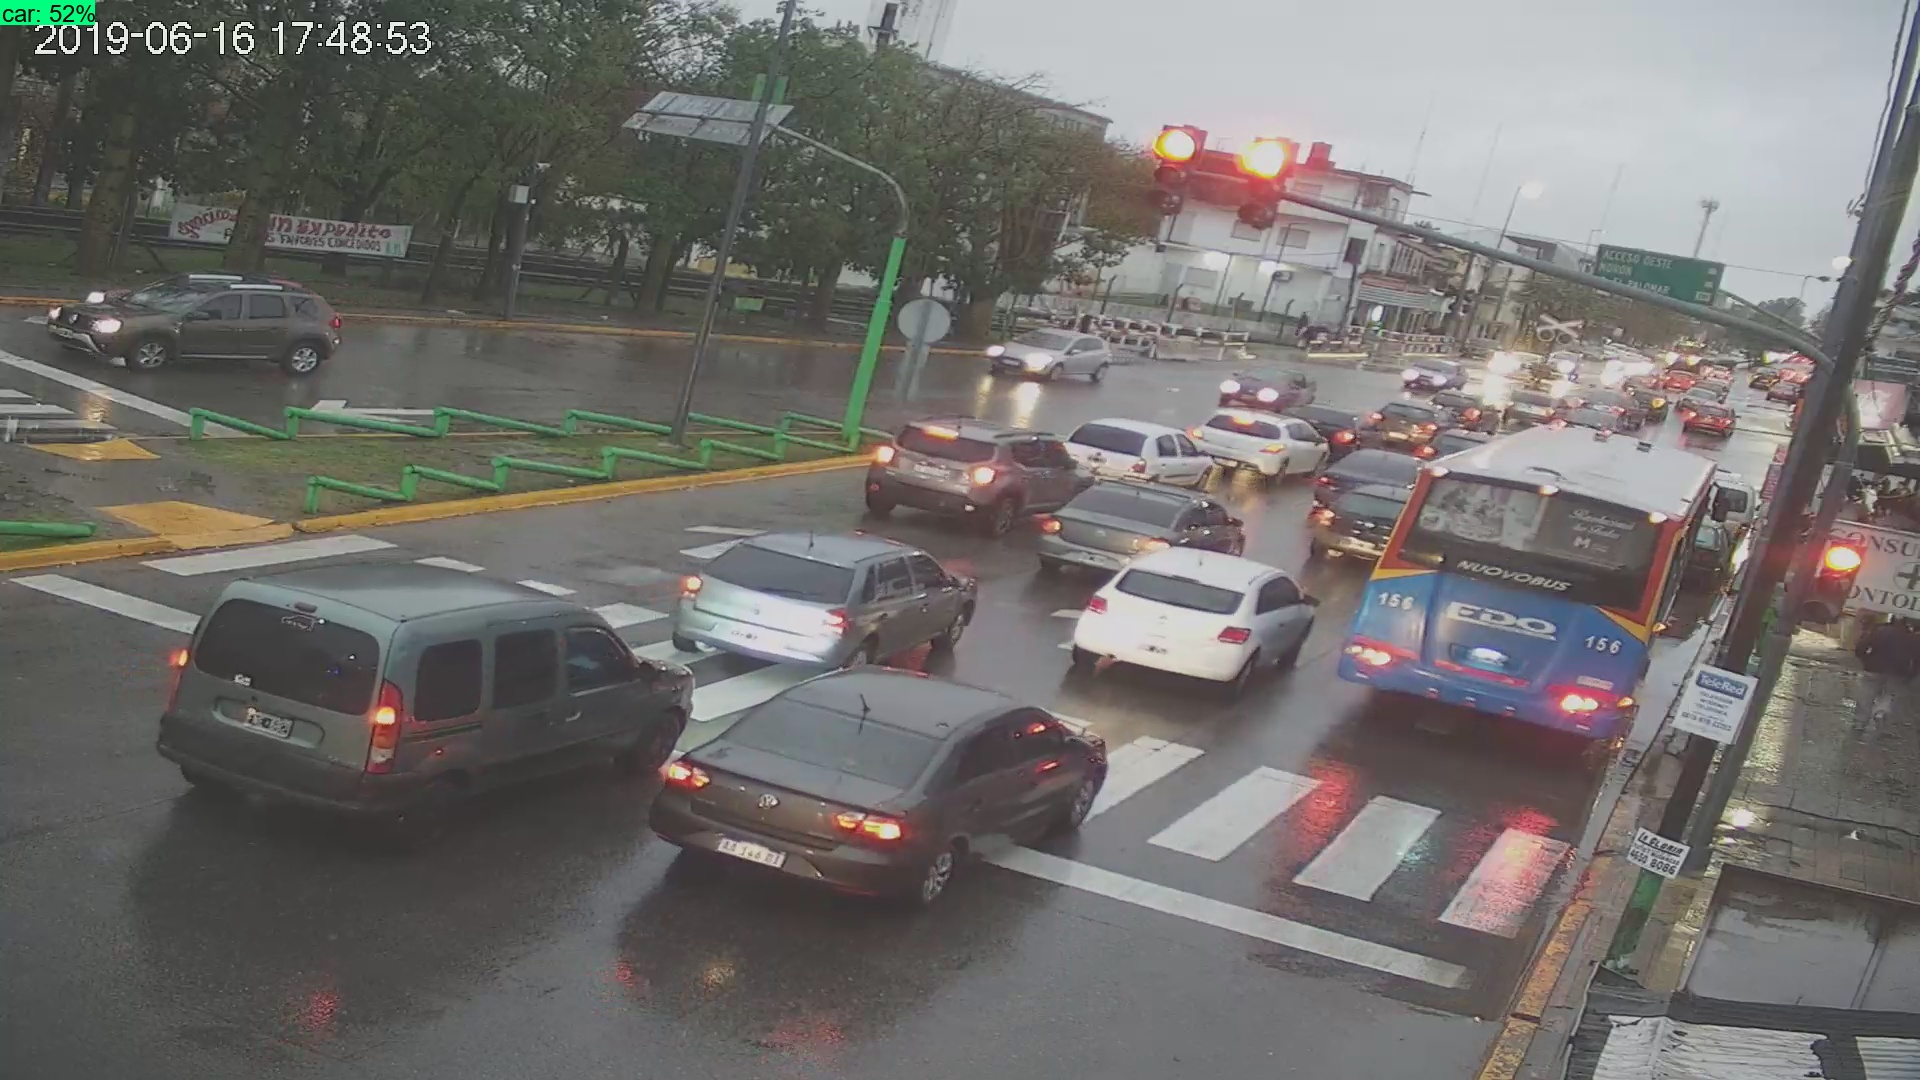bus: (1338, 430, 1731, 752)
car: (145, 555, 698, 829), (638, 646, 1116, 911), (657, 513, 981, 684), (45, 264, 352, 389), (1069, 549, 1315, 704), (870, 411, 1087, 543), (978, 320, 1122, 389)
